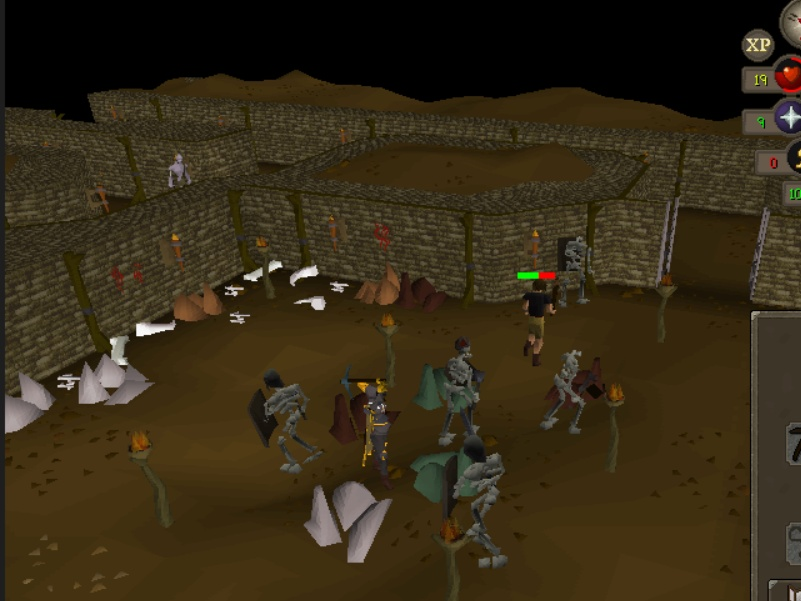adamant: (401, 446, 488, 509), (408, 356, 463, 413)
copper: (170, 275, 231, 327), (350, 259, 403, 314)
iron: (325, 388, 403, 447), (538, 351, 610, 412), (396, 269, 453, 318)
silver: (294, 475, 397, 567), (70, 350, 161, 410), (1, 364, 63, 437)
